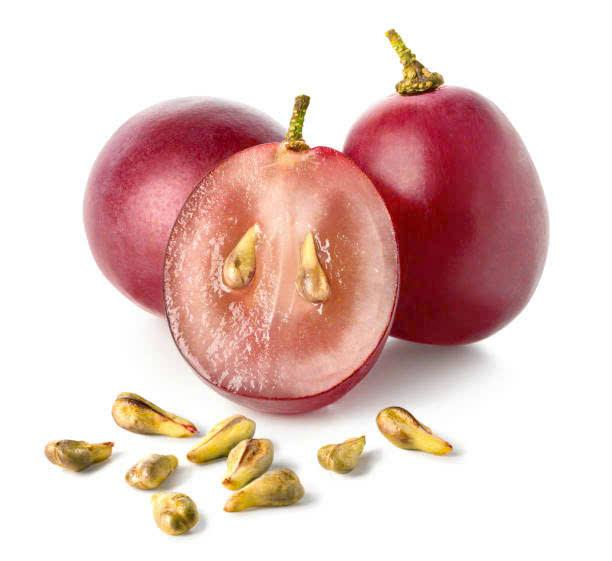grape: (155, 151, 418, 414), (358, 52, 542, 353)
